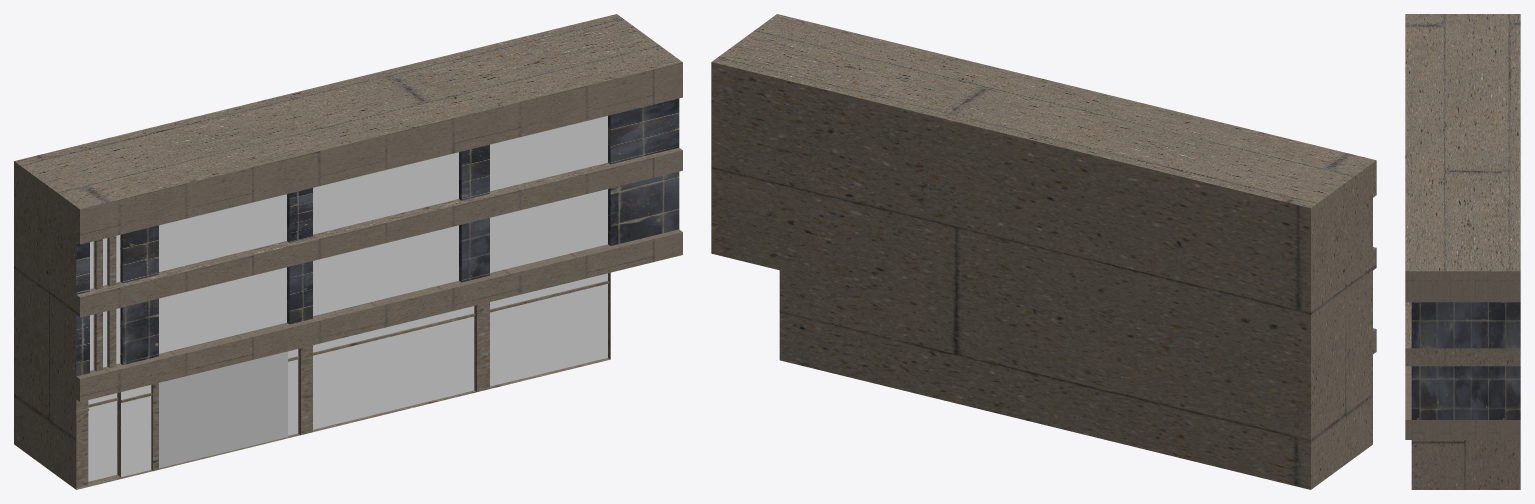
File: Scotianbank.fbx
The picture shows the model from 3 angles, left to right: view 1: azimuth 30°, elevation 25°; view 2: azimuth 150°, elevation 25°; view 3: azimuth 270°, elevation 25°; orthographic projection. The views are drawn at different scales.
Visible parts, largest first — view 1: Cube.001; view 2: Cube.001; view 3: Cube.001.
Part boxes in pixels (box(x1,y1,x2,y2)): Cube.001: box(14, 14, 682, 489); Cube.001: box(711, 14, 1376, 489); Cube.001: box(1405, 14, 1520, 489).
Bounding box in the file's own units: 2555 × 1147 × 485.
